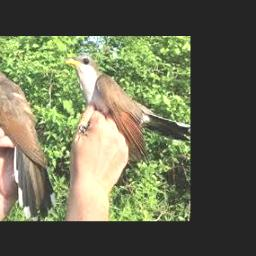Cuckoo: (66, 55, 190, 164), (0, 64, 54, 219)
